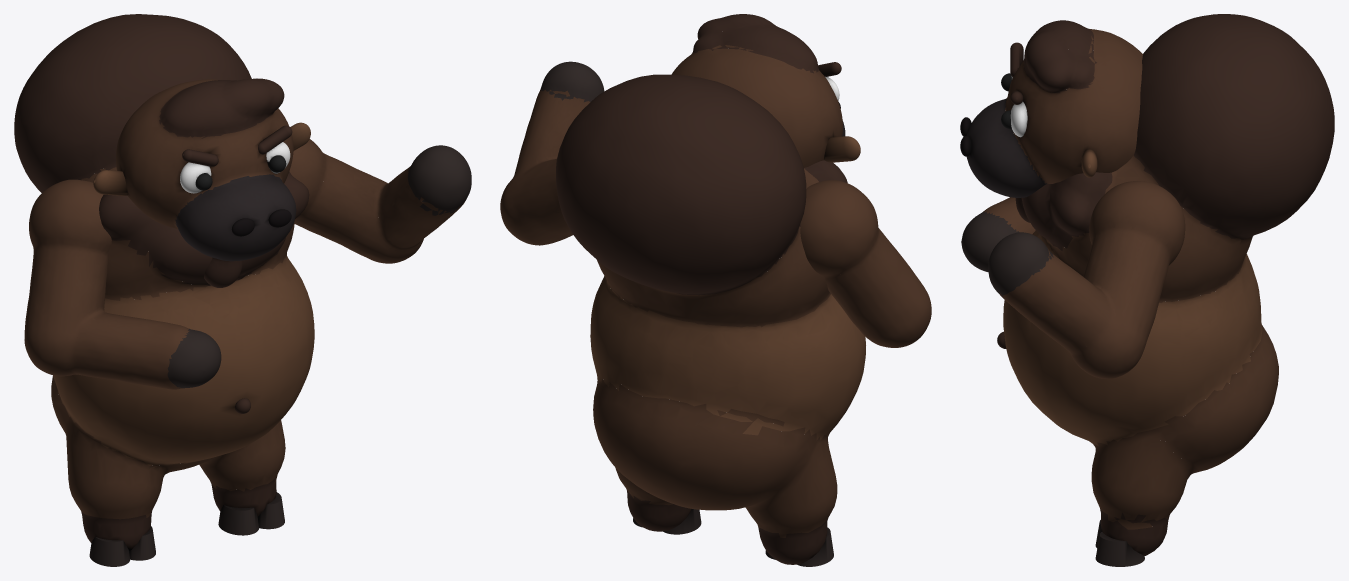
File: har-ni-den-i-en-annan-storlek.glb
3 renders of one model, left to right at view 1: azimuth 30°, elevation 25°; view 2: azimuth 150°, elevation 25°; view 3: azimuth 270°, elevation 25°, orthographic. The views are drawn at different scales.
Parts seen in each view (by area): view 1: bufalo__r0, cabeca__r0, bracoE__r0, bracoD__r0, bufalo__r4, bufalo__r2, cabeca__r6, bufalo__r5, cabeca__r3, bufalo__r3; view 2: bufalo__r0, bracoE__r0, cabeca__r0, bracoD__r0, cabeca__r6; view 3: bufalo__r0, bracoD__r0, cabeca__r0, bracoE__r0, bufalo__r5, cabeca__r8.
Part boxes in pixels (<box>): bufalo__r0: <box>14,14,314,550</box>; cabeca__r0: <box>116,78,296,287</box>; bracoE__r0: <box>24,179,221,389</box>; bracoD__r0: <box>289,139,471,263</box>; bufalo__r4: <box>218,505,258,535</box>; bufalo__r2: <box>89,537,130,566</box>; cabeca__r6: <box>93,170,127,195</box>; bufalo__r5: <box>258,492,284,529</box>; cabeca__r3: <box>180,162,211,193</box>; bufalo__r3: <box>129,526,155,560</box>; bufalo__r0: <box>556,74,865,564</box>; bracoE__r0: <box>800,180,931,347</box>; cabeca__r0: <box>671,14,845,167</box>; bracoD__r0: <box>500,61,604,245</box>; cabeca__r6: <box>824,136,860,162</box>; bufalo__r0: <box>1003,14,1334,555</box>; bracoD__r0: <box>988,181,1185,378</box>; cabeca__r0: <box>966,20,1143,222</box>; bracoE__r0: <box>961,197,1035,272</box>; bufalo__r5: <box>1095,532,1144,566</box>; cabeca__r8: <box>1010,101,1027,137</box>.
Bounding box in the file's own units: 2.2 × 2.48 × 1.7.
